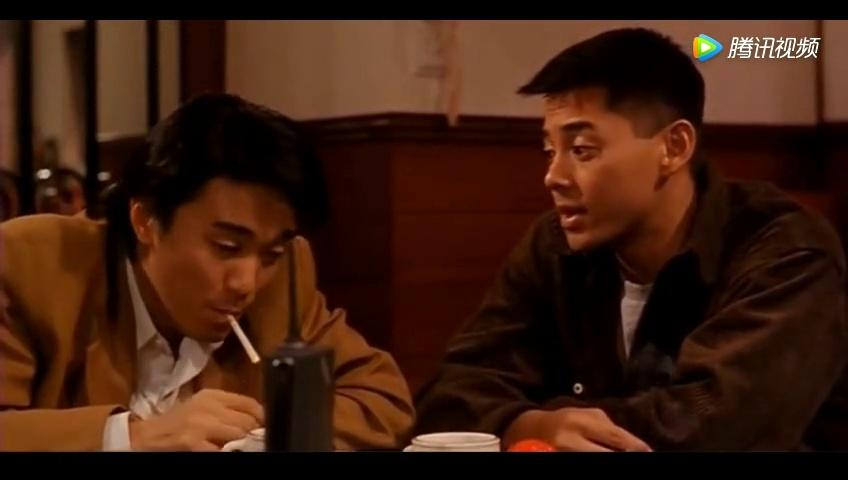smoke: (221, 307, 262, 373)
